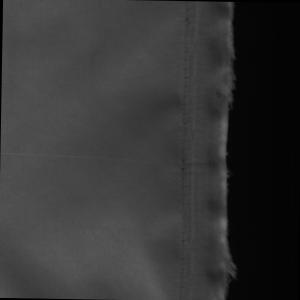Damage: (206, 2, 251, 300)
